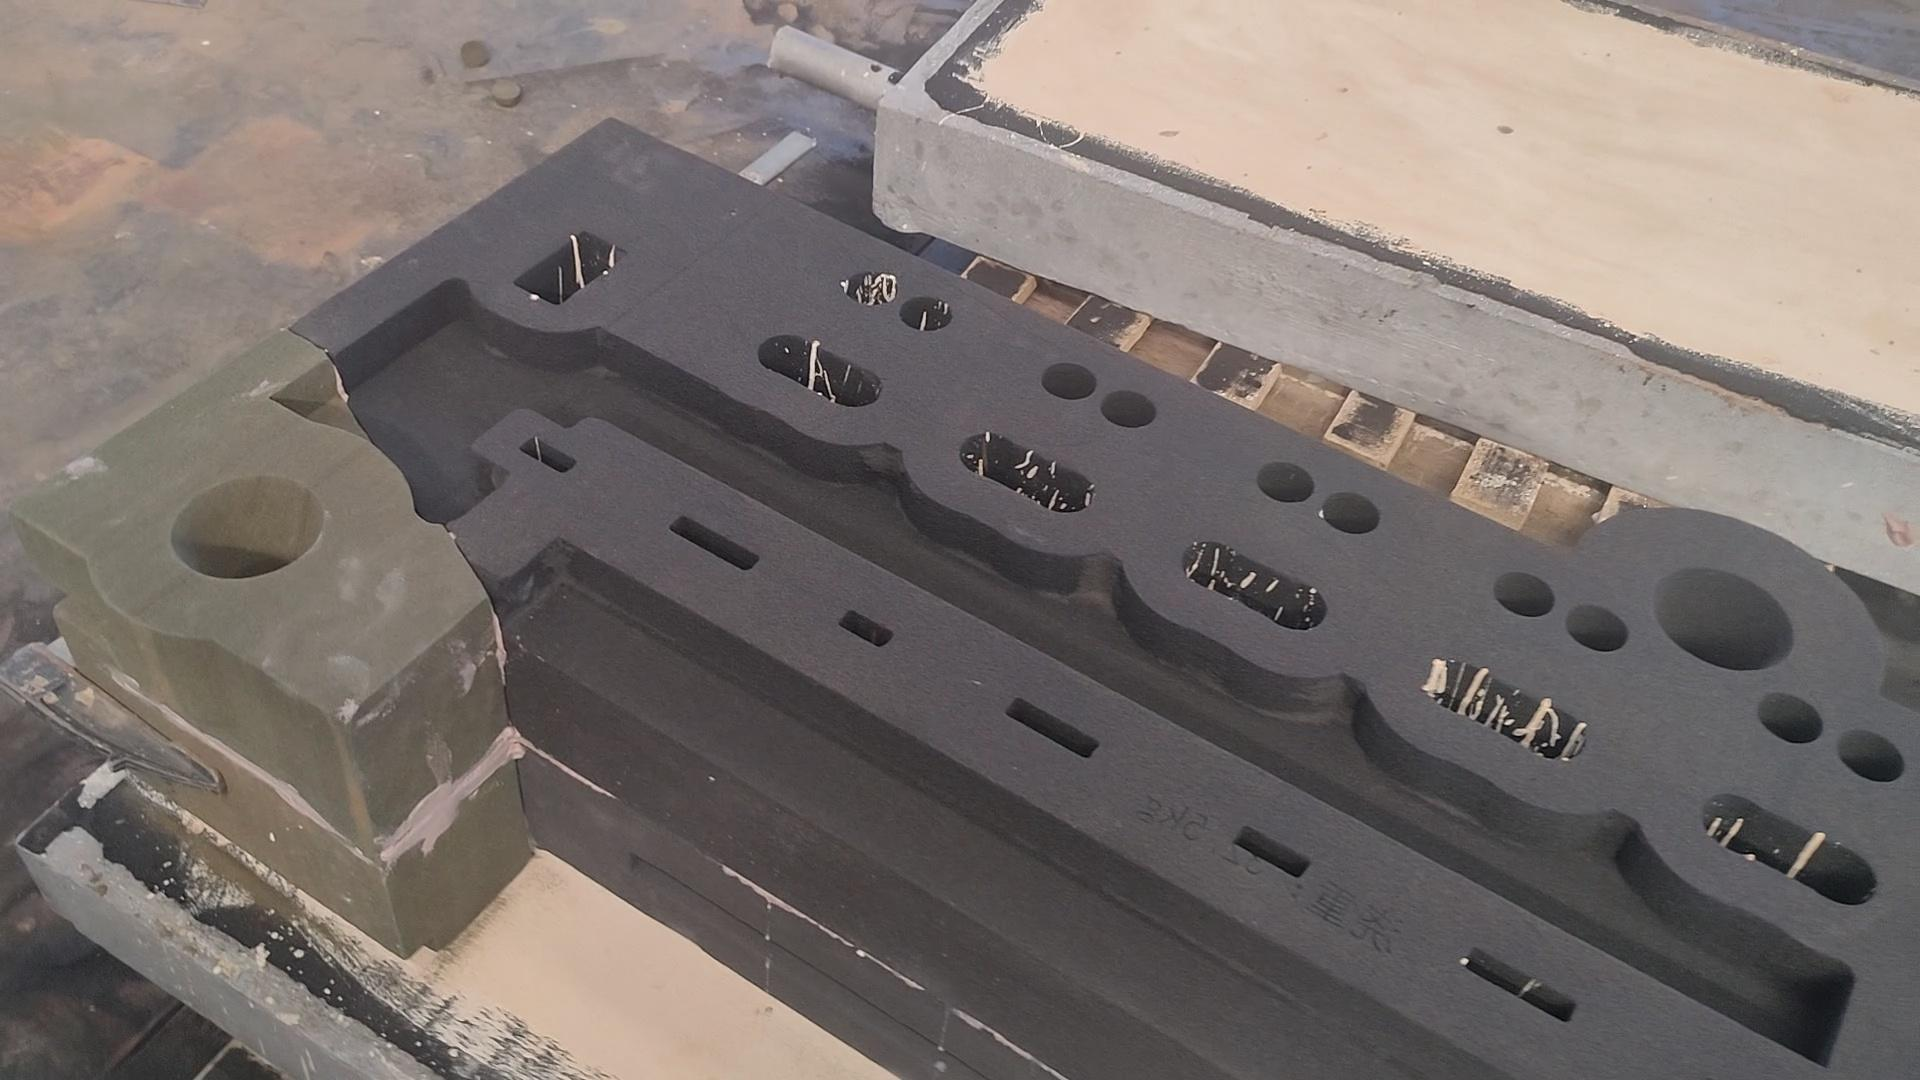pouring hole: (171, 476, 320, 580), (1652, 568, 1793, 673)
